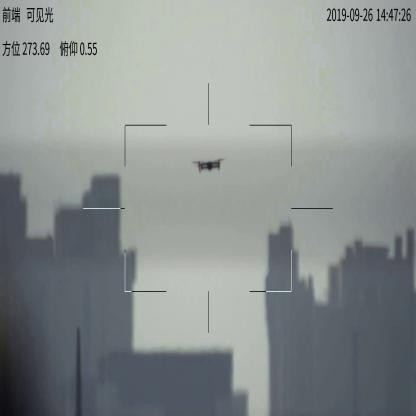uav: (195, 154, 229, 174)
